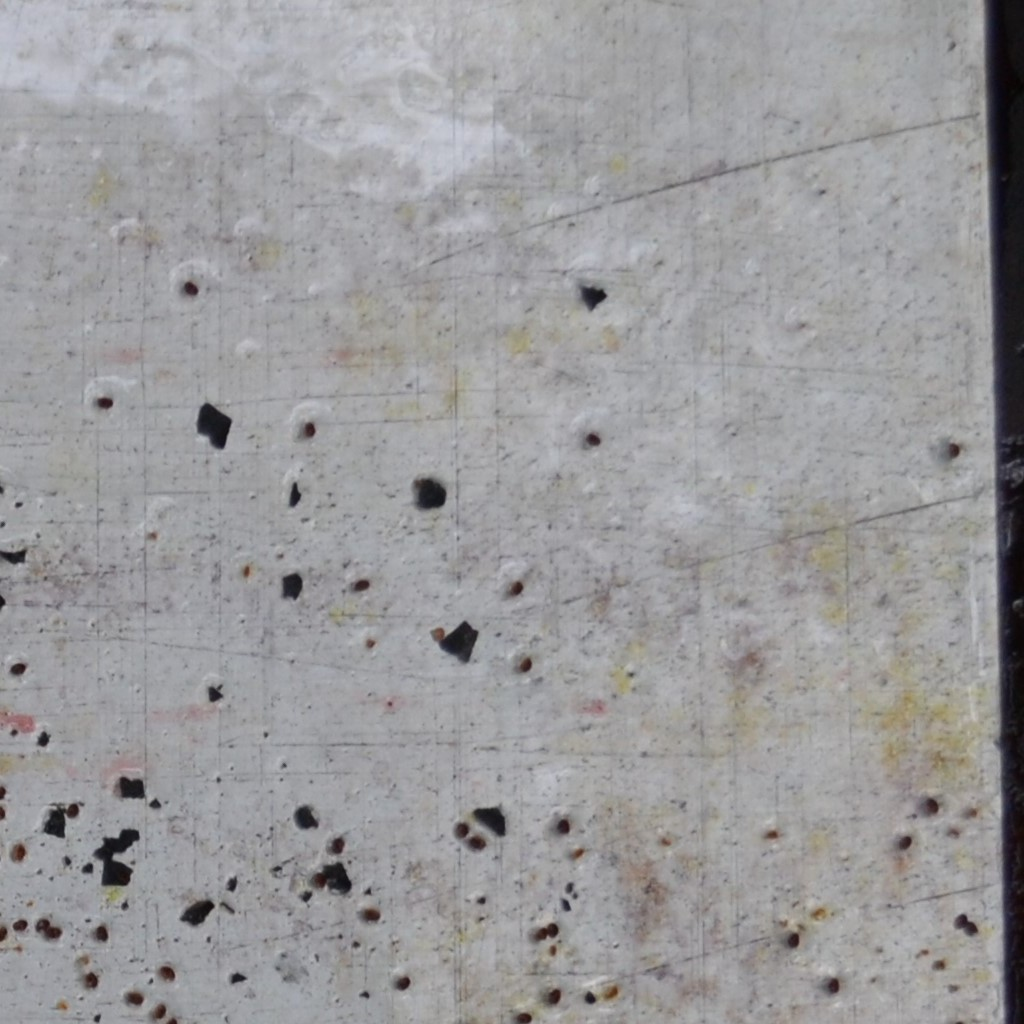varroa: (391, 972, 413, 995), (582, 429, 604, 450), (351, 575, 372, 597), (467, 832, 487, 855), (359, 904, 382, 924), (507, 575, 525, 600), (554, 814, 572, 839), (125, 988, 145, 1010), (181, 278, 202, 298), (156, 963, 178, 982), (545, 983, 563, 1006), (93, 394, 117, 411), (299, 419, 319, 439), (81, 970, 100, 990), (452, 820, 470, 841), (517, 654, 534, 676), (311, 870, 328, 892), (923, 797, 941, 817), (895, 834, 915, 852), (7, 661, 29, 677), (11, 842, 26, 865), (11, 917, 30, 935), (945, 440, 961, 461), (825, 976, 841, 997), (94, 922, 109, 944), (151, 1001, 168, 1020), (785, 930, 801, 950), (45, 925, 62, 943), (34, 917, 51, 935), (952, 910, 967, 930), (582, 987, 597, 1007), (534, 922, 547, 944), (964, 919, 979, 938), (513, 1009, 533, 1023), (545, 921, 559, 939), (0, 926, 7, 943)
